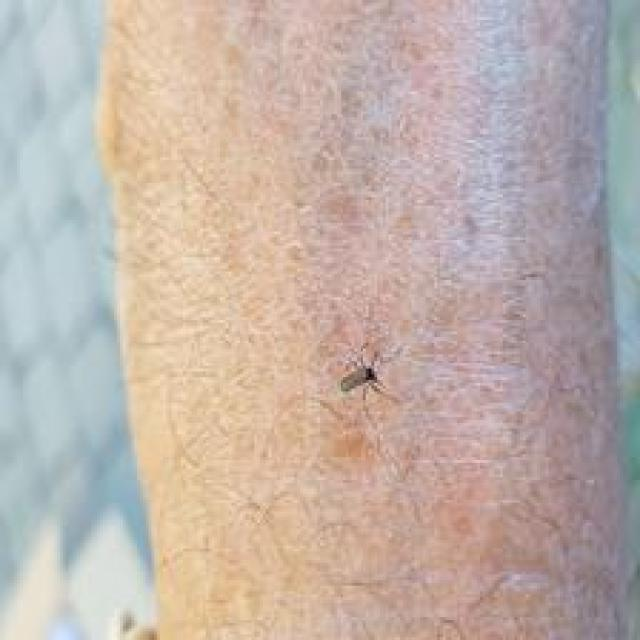Aedes albopictus: (336, 342, 401, 404)
